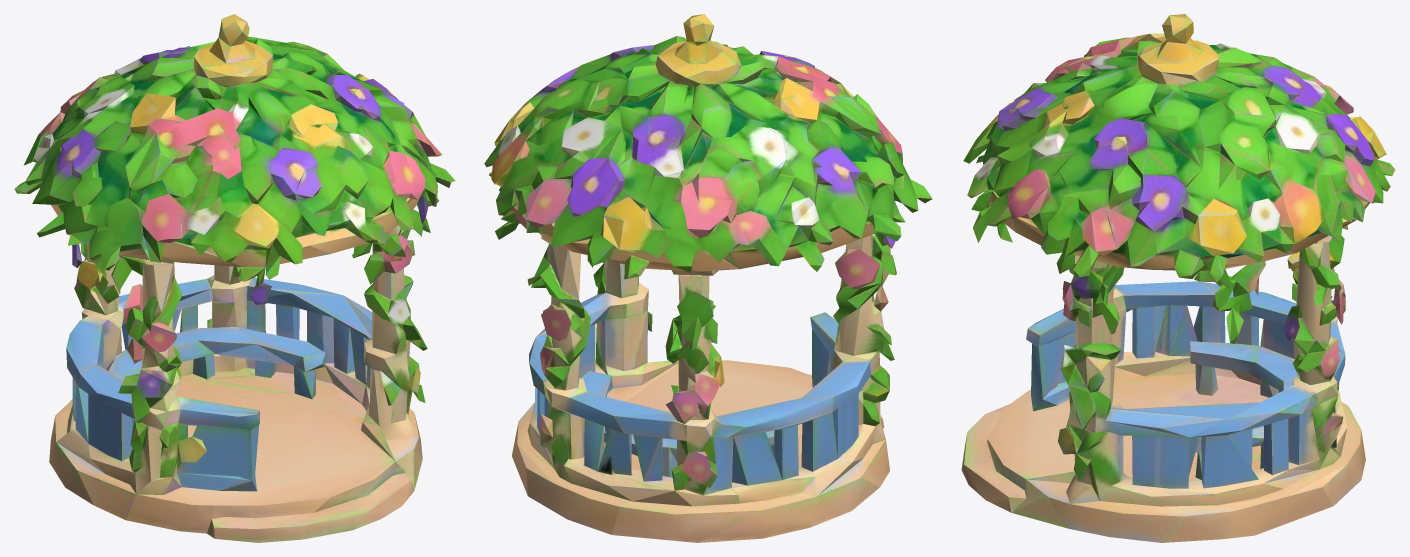
File: gazebo.glb
3 renders of one model, left to right at view 1: azimuth 30°, elevation 25°; view 2: azimuth 150°, elevation 25°; view 3: azimuth 270°, elevation 25°, orthographic. The views are drawn at different scales.
Bounding box in the file's own units: 1.72 × 1.89 × 1.66.
1 material, 1 textured.
